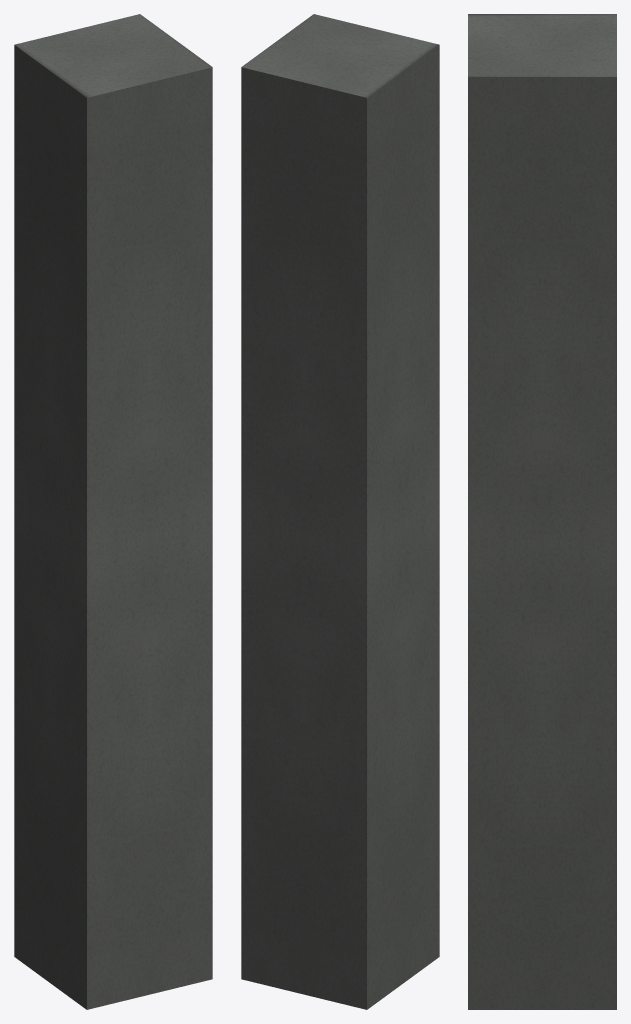
Rendered from betonsaeule1.fbx.
3 views of the same model, side by side, from view 1: azimuth 30°, elevation 25°; view 2: azimuth 150°, elevation 25°; view 3: azimuth 270°, elevation 25° (orthographic). The views are drawn at different scales.
Parts seen in each view (by area): view 1: betonsaeule1; view 2: betonsaeule1; view 3: betonsaeule1.
Part boxes in pixels (x1,y1,x2,y2): betonsaeule1: (14,14,212,1009); betonsaeule1: (241,14,439,1009); betonsaeule1: (468,14,616,1009).
Size of the model in its own units: 200 by 1385 by 200.
